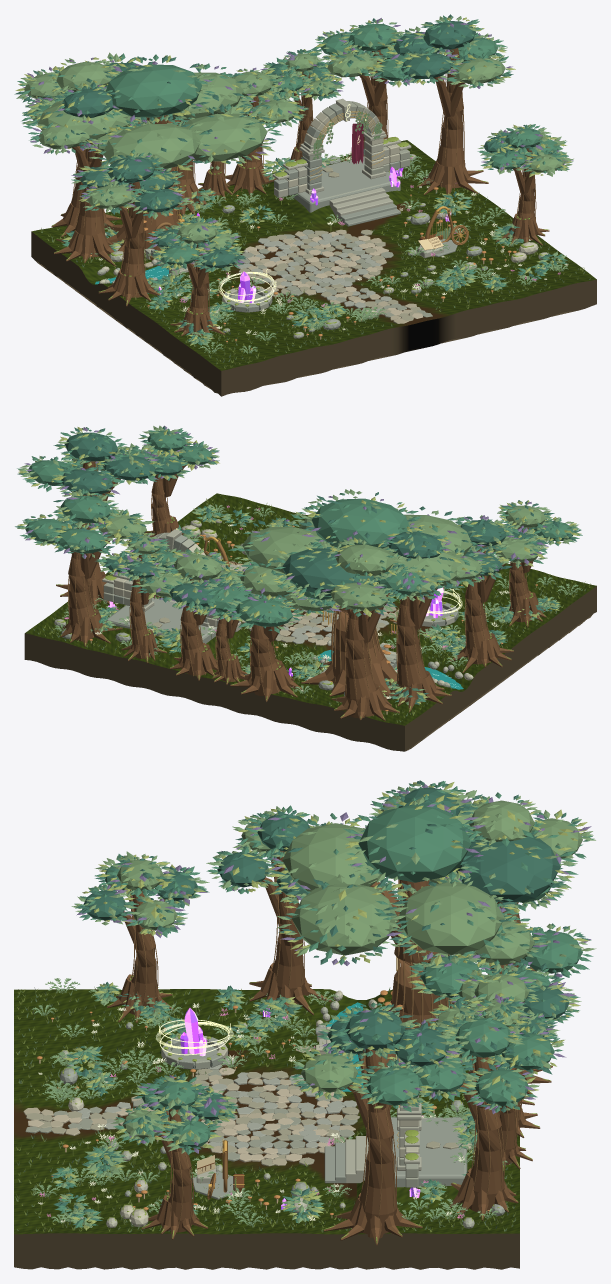
File: ForestRealm.fbx
The picture shows the model from 3 angles, top to bottom: view 1: azimuth 30°, elevation 25°; view 2: azimuth 150°, elevation 25°; view 3: azimuth 270°, elevation 25°; orthographic projection. The views are drawn at different scales.
Parts seen in each view (by area): view 1: Solid sculpted earth • closed underside, Sculpted broadleaf canopy, Meadow • batched individual grass blades, Layered canopy core.005, Sculpted broadleaf canopy.006, Layered canopy core.003, Sculpted broadleaf canopy.007, Layered canopy core.004, Sculpted broadleaf canopy.008, Sculpted broadleaf canopy.009, Raised gateway terrace, Sculpted broadleaf canopy.005 (+34 smaller); view 2: Solid sculpted earth • closed underside, Sculpted broadleaf canopy, Layered canopy core.005, Sculpted broadleaf canopy.006, Sculpted broadleaf canopy.005, Sculpted broadleaf canopy.002, Layered canopy core.001, Meadow • batched individual grass blades, Layered canopy core, Sculpted broadleaf canopy.003, Forest tree • tapered trunk.001, Sculpted broadleaf canopy.004 (+42 smaller); view 3: Solid sculpted earth • closed underside, Sculpted broadleaf canopy, Layered canopy core.005, Meadow • batched individual grass blades, Sculpted broadleaf canopy.006, Layered canopy core, Layered canopy core.004, Sculpted broadleaf canopy.008, Sculpted broadleaf canopy.005, Layered canopy core.001, Sculpted broadleaf canopy.009, Layered canopy core.003 (+41 smaller).
Boxes of the visible parts, x1=… form: Solid sculpted earth • closed underside: x1=31, y1=140, x2=596, y2=396; Sculpted broadleaf canopy: x1=22, y1=52, x2=283, y2=178; Meadow • batched individual grass blades: x1=41, y1=143, x2=590, y2=368; Layered canopy core.005: x1=105, y1=64, x2=202, y2=117; Sculpted broadleaf canopy.006: x1=386, y1=14, x2=515, y2=88; Layered canopy core.003: x1=103, y1=124, x2=200, y2=170; Sculpted broadleaf canopy.007: x1=71, y1=152, x2=191, y2=219; Layered canopy core.004: x1=181, y1=113, x2=267, y2=161; Sculpted broadleaf canopy.008: x1=145, y1=216, x2=246, y2=272; Sculpted broadleaf canopy.009: x1=477, y1=124, x2=573, y2=177; Raised gateway terrace: x1=276, y1=156, x2=400, y2=212; Sculpted broadleaf canopy.005: x1=311, y1=18, x2=416, y2=87; Solid sculpted earth • closed underside: x1=24, y1=493, x2=596, y2=751; Sculpted broadleaf canopy: x1=228, y1=489, x2=486, y2=604; Layered canopy core.005: x1=311, y1=498, x2=410, y2=548; Sculpted broadleaf canopy.006: x1=17, y1=427, x2=164, y2=499; Sculpted broadleaf canopy.005: x1=15, y1=489, x2=155, y2=558; Sculpted broadleaf canopy.002: x1=287, y1=537, x2=443, y2=616; Layered canopy core.001: x1=282, y1=548, x2=378, y2=596; Meadow • batched individual grass blades: x1=33, y1=494, x2=590, y2=722; Layered canopy core: x1=242, y1=527, x2=336, y2=573; Sculpted broadleaf canopy.003: x1=201, y1=561, x2=341, y2=633; Forest tree • tapered trunk.001: x1=345, y1=609, x2=376, y2=718; Sculpted broadleaf canopy.004: x1=131, y1=547, x2=254, y2=613; Solid sculpted earth • closed underside: x1=14, y1=989, x2=519, y2=1269; Sculpted broadleaf canopy: x1=267, y1=785, x2=578, y2=966; Layered canopy core.005: x1=358, y1=805, x2=471, y2=882; Meadow • batched individual grass blades: x1=15, y1=987, x2=516, y2=1232; Sculpted broadleaf canopy.006: x1=289, y1=1002, x2=462, y2=1111; Layered canopy core: x1=398, y1=881, x2=504, y2=954; Layered canopy core.004: x1=291, y1=884, x2=397, y2=955; Sculpted broadleaf canopy.008: x1=71, y1=851, x2=209, y2=937; Sculpted broadleaf canopy.005: x1=410, y1=1010, x2=566, y2=1114; Layered canopy core.001: x1=456, y1=835, x2=560, y2=902; Sculpted broadleaf canopy.009: x1=110, y1=1073, x2=239, y2=1154; Layered canopy core.003: x1=282, y1=823, x2=381, y2=891.
Bounding box in the file's own units: 40.16 × 16.5 × 32.27.
